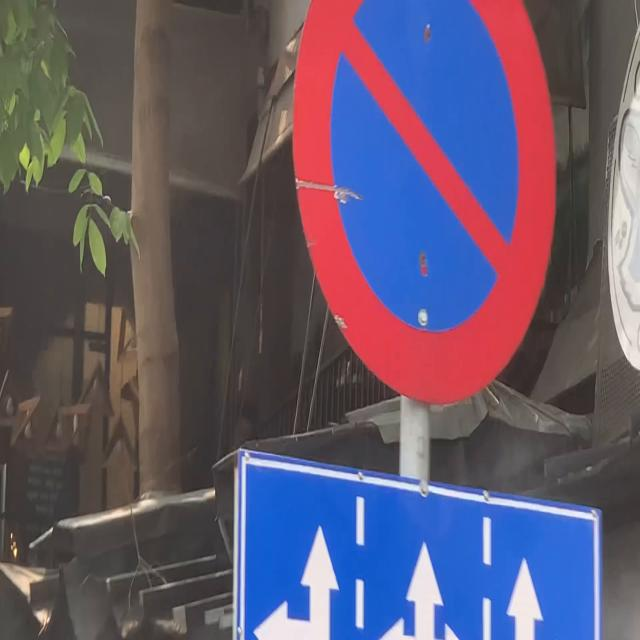Cam do: (283, 0, 560, 410)
